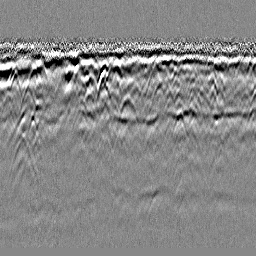cavity: (116, 92, 140, 129)
